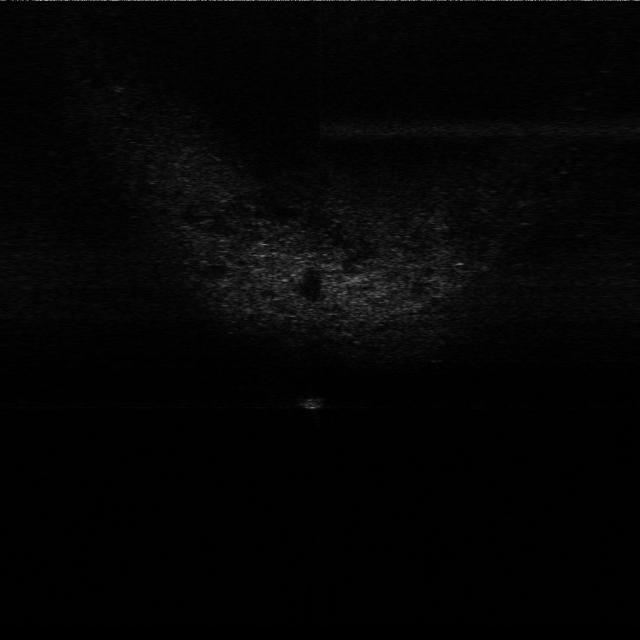cube: (294, 391, 328, 414)
